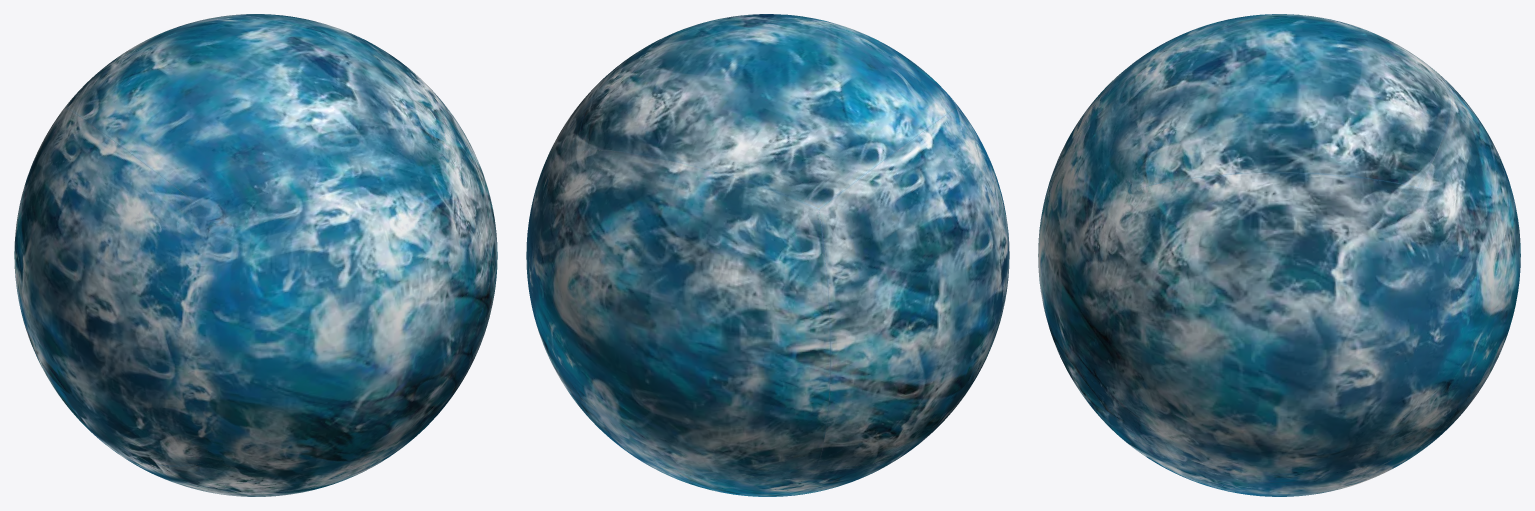
Rendered from AdobeStock_125031378_planetAlien_02.glb.
The picture shows the model from 3 angles, left to right: view 1: azimuth 30°, elevation 25°; view 2: azimuth 150°, elevation 25°; view 3: azimuth 270°, elevation 25°; orthographic projection.
Parts seen in each view (by area): view 1: planetAlien_02; view 2: planetAlien_02; view 3: planetAlien_02.
Boxes of the visible parts, x1,y1,x2,y2 form: planetAlien_02: (14,14,497,496); planetAlien_02: (526,14,1009,496); planetAlien_02: (1038,14,1520,496).
Size of the model in its own units: 20.97 by 20.97 by 20.97.
Materials: 1 (1 with a texture image).
